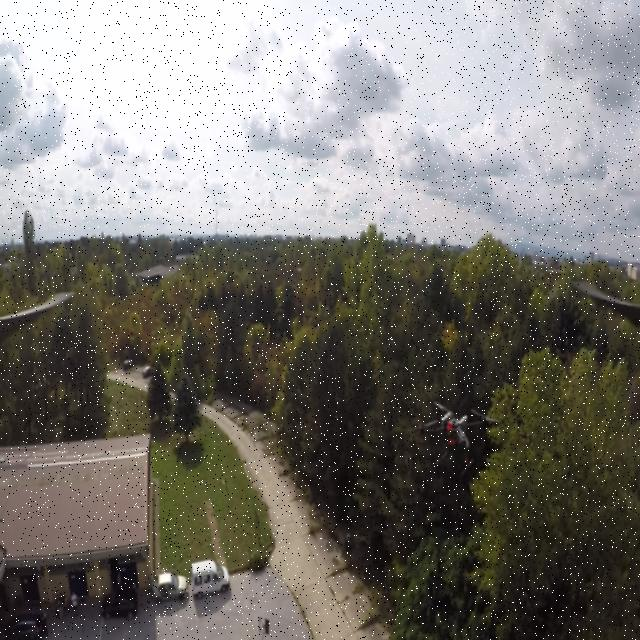UAV: (408, 399, 502, 477)
